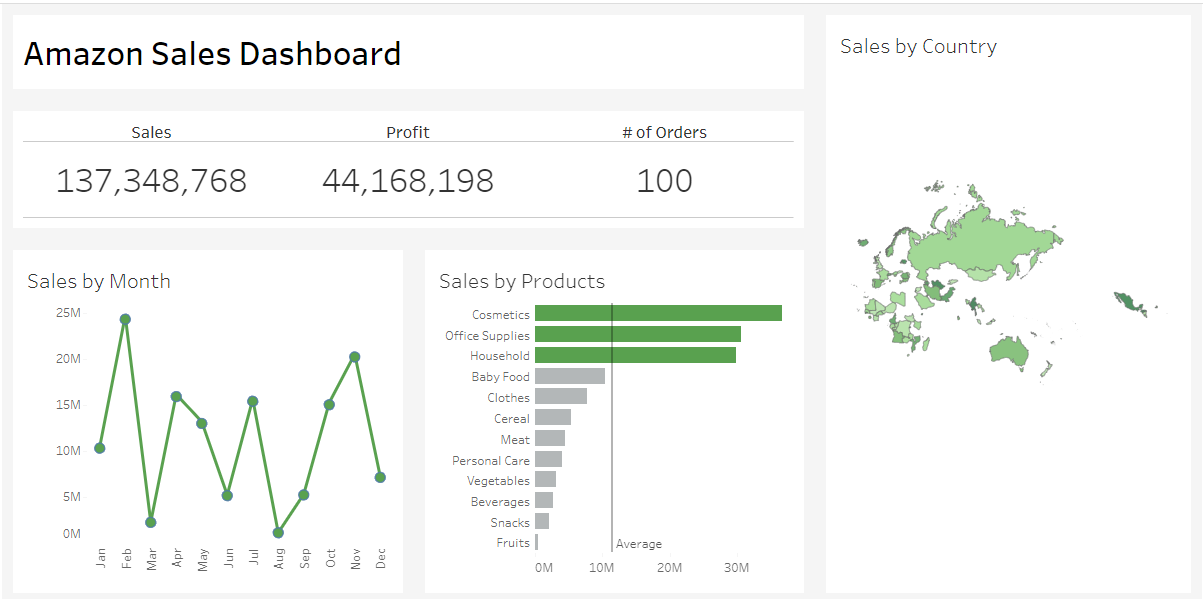

What the dashboard file says about the page in this screenshot:
{"tool":"tableau","page":{"name":"Dashboard 1","canvas":[1200,600],"ordinal":0},"visuals":[{"type":"text","box":[0,0,813,96]},{"type":"worksheet","title":"Sales by Country","mark":"Automatic","box":[813,0,387,600]},{"type":"legend","title":"Sales by Country","param":"[federated.0dc2qit0cqcyhx13078fa1uok4wg].[sum:Total Revenue:qk]","box":[1032,8,160,65]},{"type":"legend","title":"Sales by Products","param":"[federated.0dc2qit0cqcyhx13078fa1uok4wg].[usr:Calculation_1358116778634461184:nk","box":[1032,73,160,66]},{"type":"worksheet","title":"KPIs","mark":"Automatic","box":[0,96,813,139]},{"type":"worksheet","title":"Sales by Month","mark":"Automatic","rows":["Total Revenue","Total Revenue"],"cols":["Order Date"],"box":[0,235,412,365]},{"type":"worksheet","title":"Sales by Products","mark":"Bar","rows":["Item Type"],"cols":["Total Revenue"],"box":[412,235,401,365]}]}

Visuals, with their boxes in screenshot pixels (x1, y1, x2, y2), scaled from the page's 1200x600 canvas onto the 1203x599 screenshot:
text: Rect(0, 0, 815, 96)
"Sales by Country" worksheet: Rect(815, 0, 1202, 598)
"Sales by Country" legend: Rect(1035, 8, 1195, 73)
"Sales by Products" legend: Rect(1035, 73, 1195, 139)
"KPIs" worksheet: Rect(0, 96, 815, 235)
"Sales by Month" worksheet: Rect(0, 235, 413, 598)
"Sales by Products" worksheet (Bar marks): Rect(413, 235, 815, 598)
